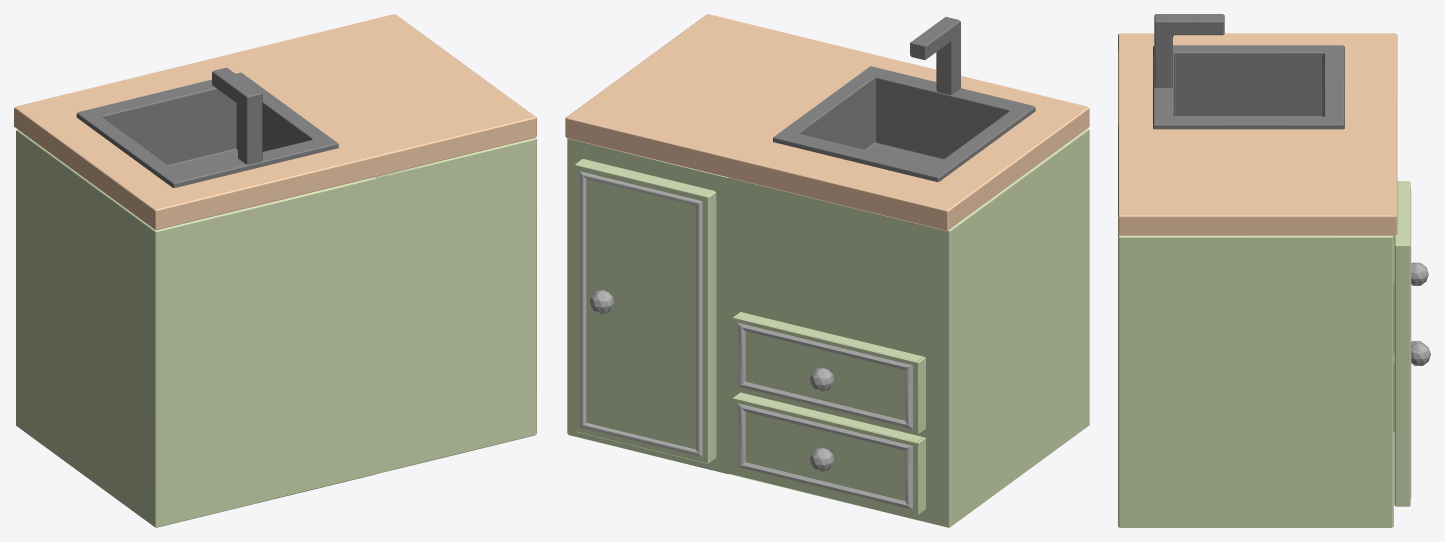
The model's file is lavaplatos.fbx.
3 views of the same model, side by side, from view 1: azimuth 30°, elevation 25°; view 2: azimuth 150°, elevation 25°; view 3: azimuth 270°, elevation 25° (orthographic). The views are drawn at different scales.
Visible parts, largest first — view 1: Counter with sink; view 2: Counter with sink; view 3: Counter with sink.
Part boxes in pixels (left/top/right/bottom): Counter with sink: left=14, top=14, right=536, bottom=527; Counter with sink: left=565, top=14, right=1089, bottom=527; Counter with sink: left=1118, top=14, right=1430, bottom=527.
Bounding box in the file's own units: 2.69 × 2.63 × 1.94.
